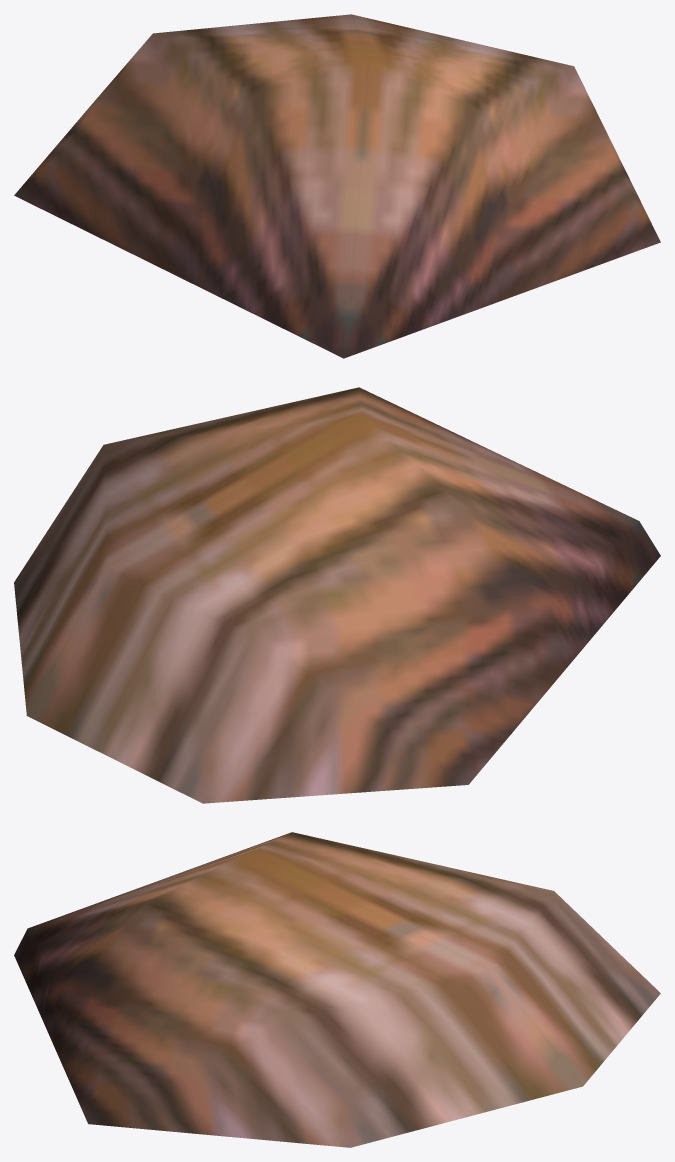
File: environment_common_seabeike_003_b.FBX
3 renders of one model, top to bottom at view 1: azimuth 30°, elevation 25°; view 2: azimuth 150°, elevation 25°; view 3: azimuth 270°, elevation 25°, orthographic. The views are drawn at different scales.
Parts seen in each view (by area): view 1: environment_common_seabeike_003_b; view 2: environment_common_seabeike_003_b; view 3: environment_common_seabeike_003_b.
Part boxes in pixels (bbox=[...]): environment_common_seabeike_003_b: bbox=[14, 14, 660, 358]; environment_common_seabeike_003_b: bbox=[14, 387, 660, 803]; environment_common_seabeike_003_b: bbox=[14, 832, 660, 1147].
Size of the model in its own units: 28.54 by 9.88 by 33.44.
